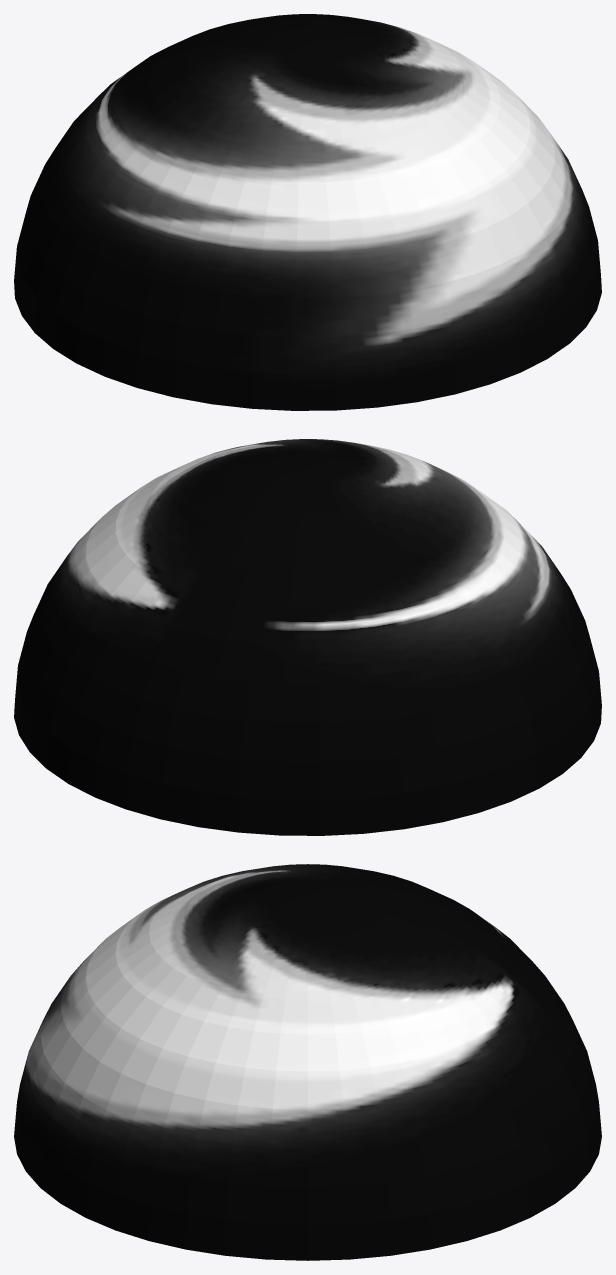
The model's file is 0456_twistcircle.glb.
3 views of the same model, one above another, from view 1: azimuth 30°, elevation 25°; view 2: azimuth 150°, elevation 25°; view 3: azimuth 270°, elevation 25° (orthographic).
Bounding box in the file's own units: 2.2 × 1 × 2.2.
1 material, 1 textured.
